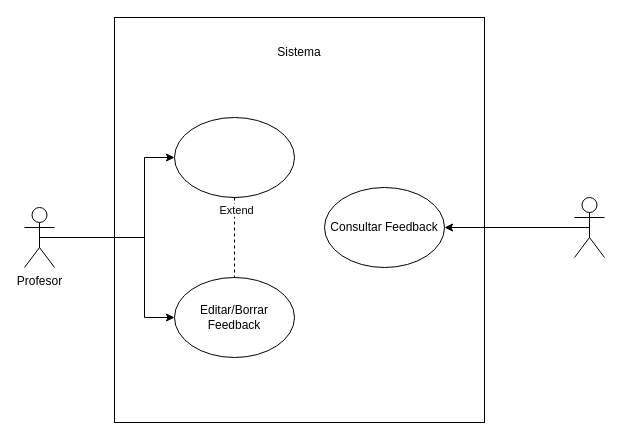
Some shapes in this 627 by 440 pixel diagram are drawn without their labels. The centre of each missing label's shape, as x and y in pixels:
"Alumno" belongs at point 589,227.
"Emitir Feedback" belongs at point 234,157.
